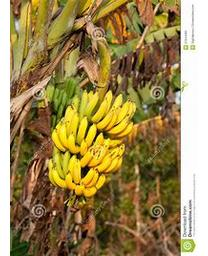banana: (49, 87, 136, 200)
